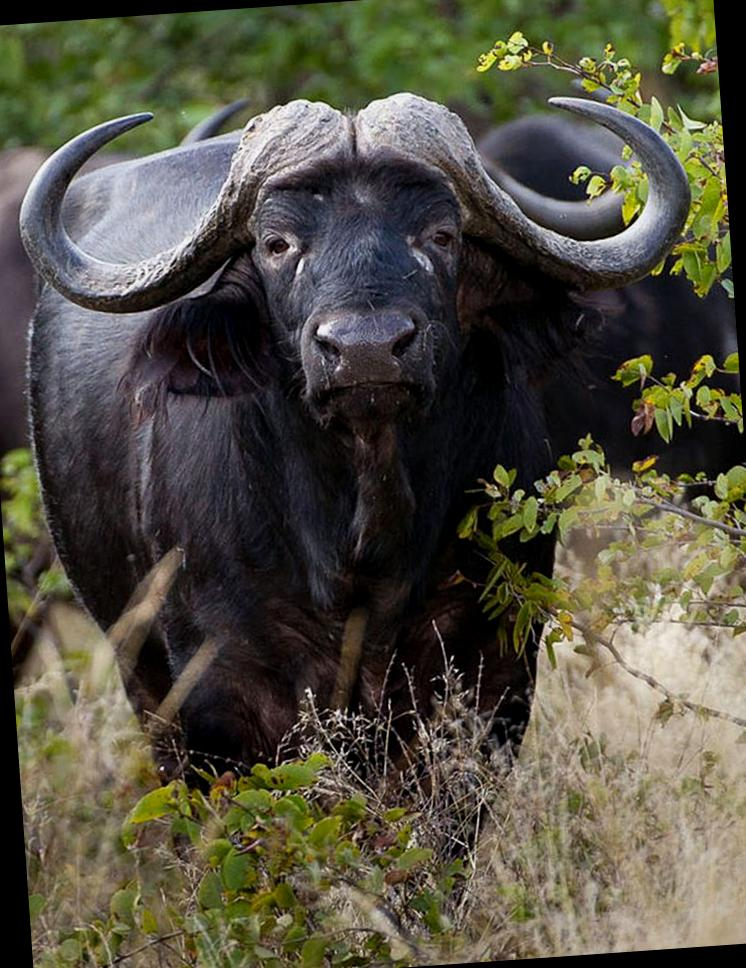Buffalo: (0, 10, 746, 968)
